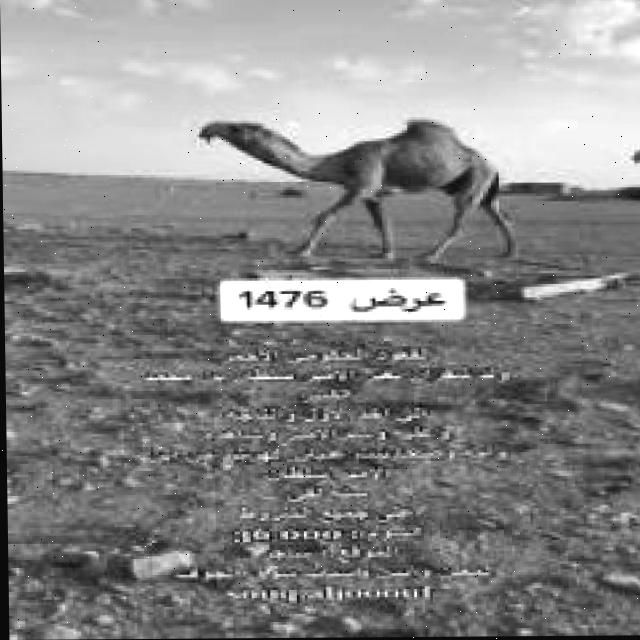Camel: (196, 113, 516, 265)
